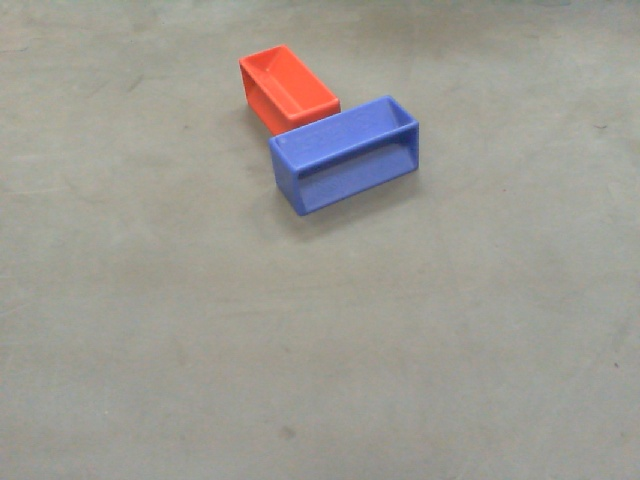BlueSample: (268, 95, 421, 211)
RedSample: (234, 42, 342, 136)
